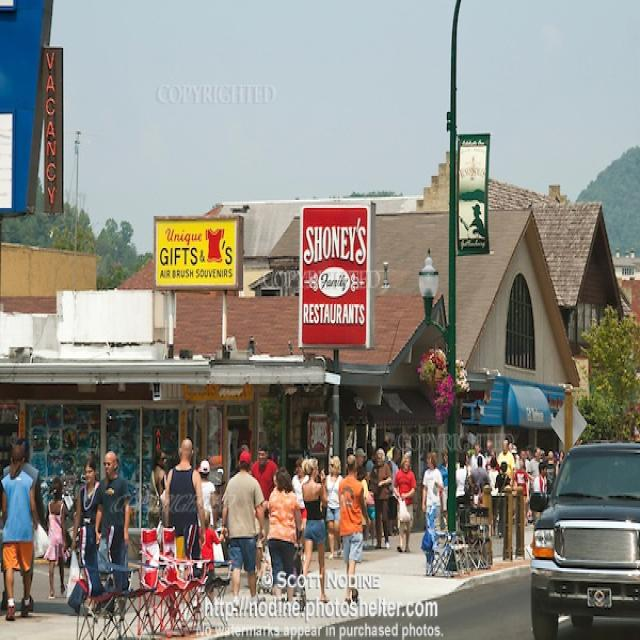body: (218, 446, 266, 616), (0, 438, 42, 621), (91, 448, 131, 621), (333, 452, 374, 610), (69, 454, 108, 620), (163, 436, 207, 562), (0, 433, 50, 538), (267, 468, 304, 606), (300, 454, 332, 605), (507, 440, 565, 520), (248, 442, 280, 582), (42, 472, 69, 598), (366, 446, 393, 552), (318, 453, 344, 560), (419, 450, 445, 555), (392, 451, 417, 554), (148, 448, 169, 566), (197, 508, 225, 582), (479, 438, 498, 540), (496, 437, 515, 536), (385, 443, 403, 539), (289, 454, 310, 533), (195, 456, 218, 528), (530, 459, 549, 546), (360, 472, 378, 546), (494, 459, 510, 538), (513, 456, 529, 530), (488, 456, 502, 538), (468, 454, 493, 494), (349, 442, 374, 482), (465, 200, 488, 242), (437, 448, 449, 520), (453, 450, 468, 496), (468, 440, 486, 470), (422, 450, 438, 480), (484, 446, 500, 471), (268, 472, 282, 490), (383, 443, 390, 462), (463, 448, 470, 466), (483, 461, 491, 474), (240, 442, 250, 451)
